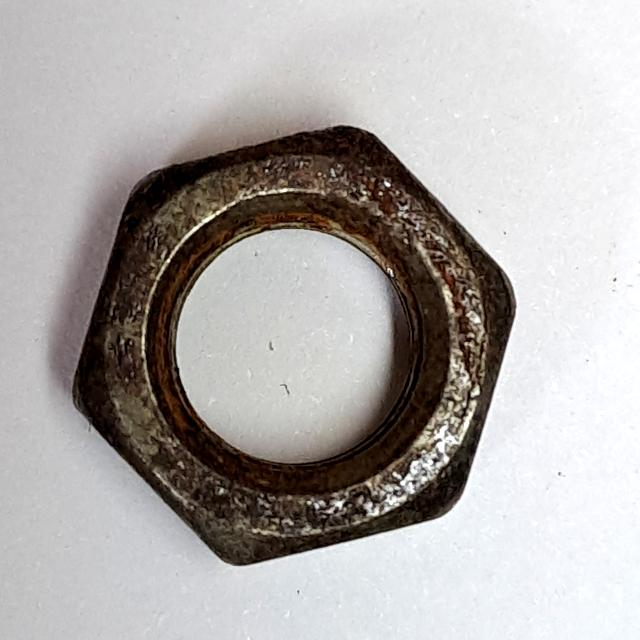Rust: (59, 115, 522, 581)
